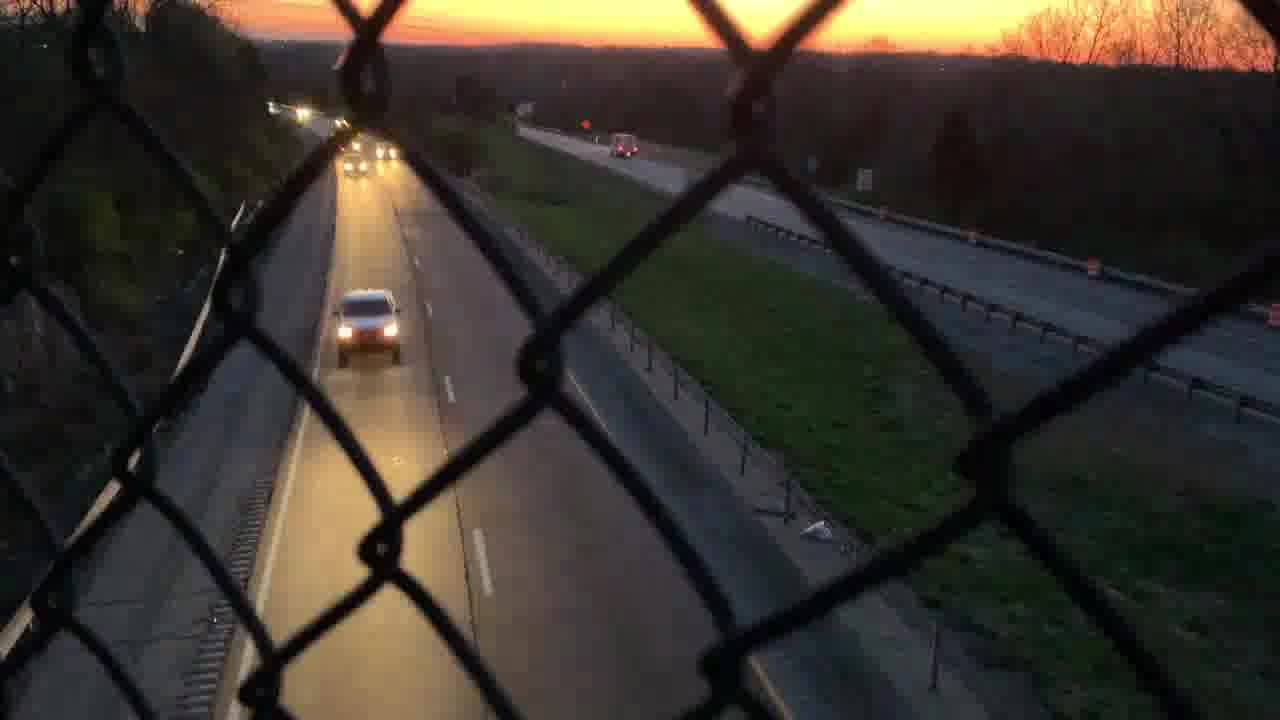heavyTruck: (607, 133, 642, 162)
lightTruck: (332, 289, 402, 366)
smallCar: (339, 154, 372, 179)
